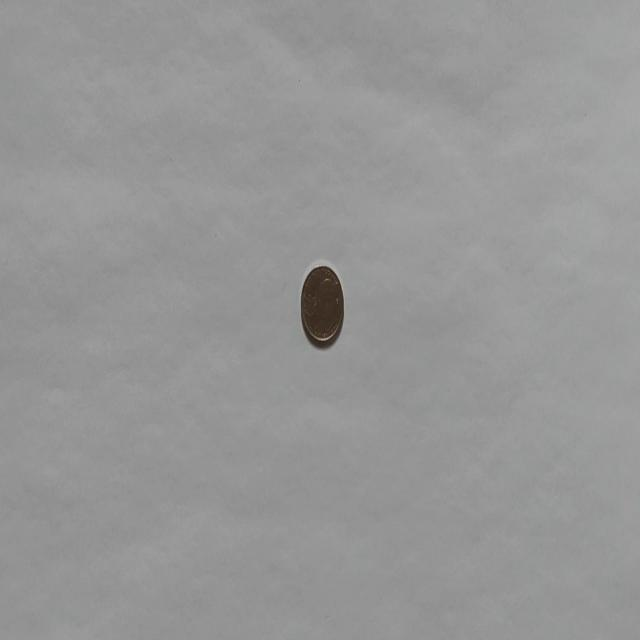seribu rupiah koin: (300, 261, 344, 347)
